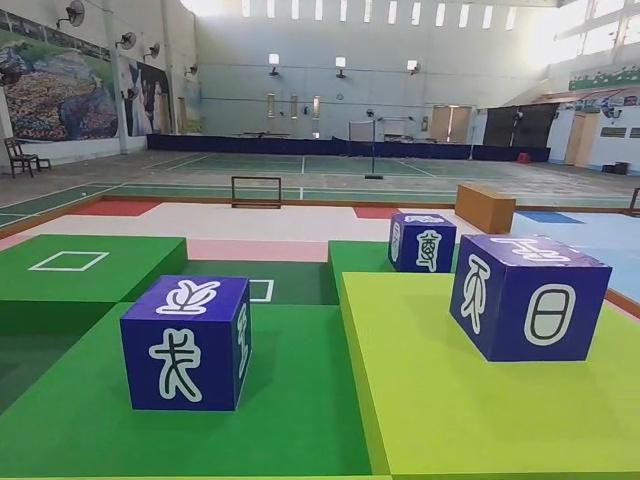R2 Fake Blue: (449, 234, 613, 366), (123, 273, 254, 414), (388, 215, 458, 276)
